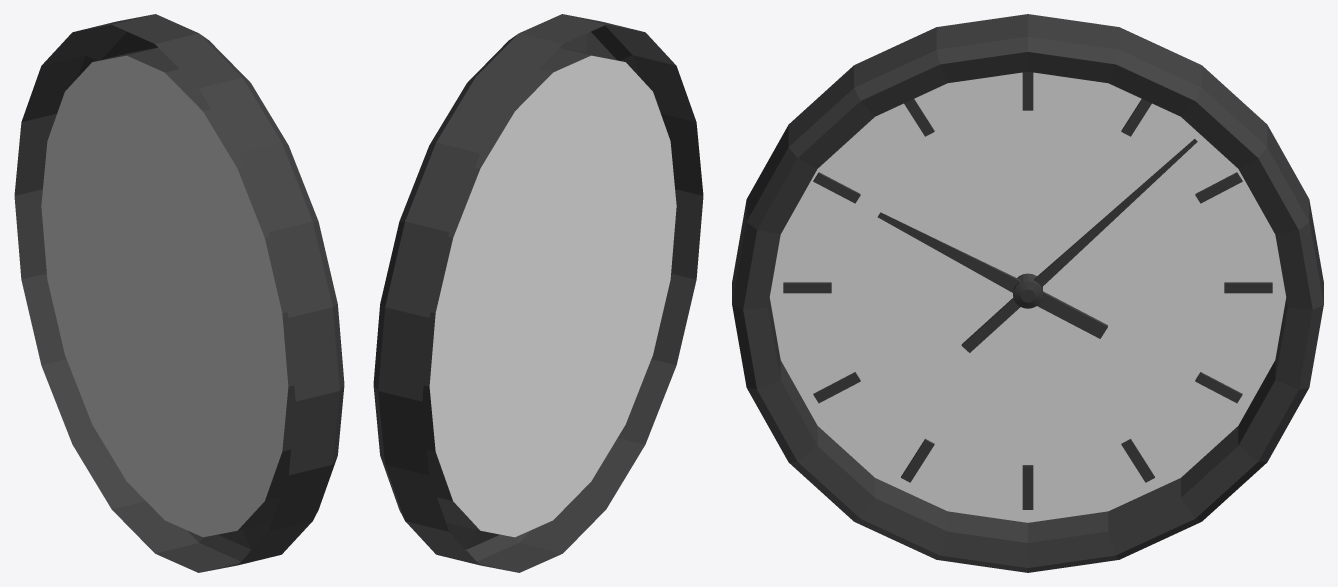
Rendered from clock.fbx.
3 views of the same model, side by side, from view 1: azimuth 30°, elevation 25°; view 2: azimuth 150°, elevation 25°; view 3: azimuth 270°, elevation 25° (orthographic). The views are drawn at different scales.
Parts seen in each view (by area): view 1: 1345 Analog Clock; view 2: 1345 Analog Clock; view 3: 1345 Analog Clock.
Boxes of the visible parts, x1=… form: 1345 Analog Clock: x1=14, y1=14, x2=344, y2=572; 1345 Analog Clock: x1=373, y1=14, x2=703, y2=572; 1345 Analog Clock: x1=732, y1=14, x2=1323, y2=572.
Bounding box in the file's own units: 44.28 × 398 × 398.
